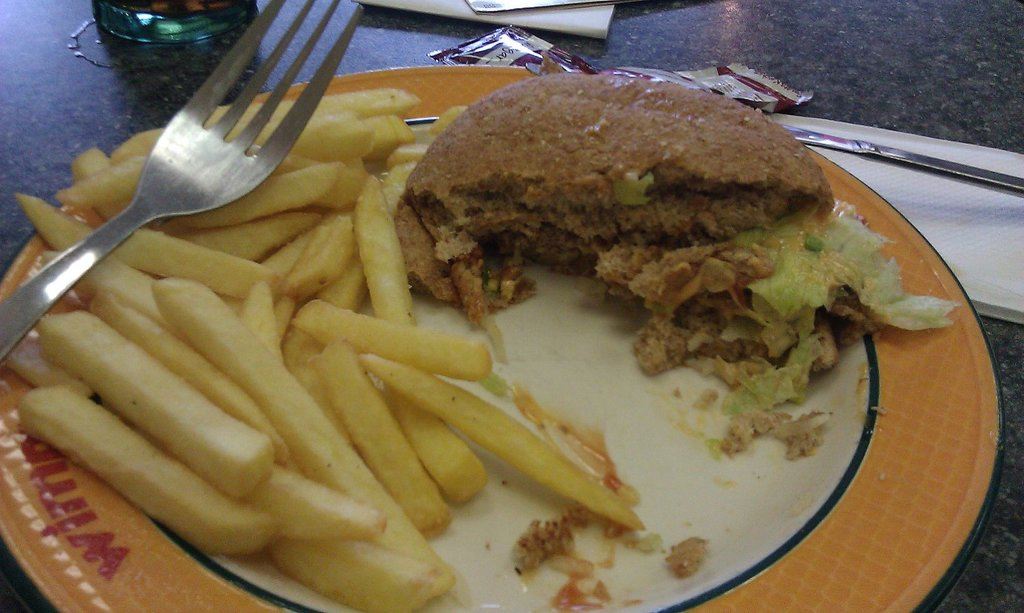French fries: (10, 76, 625, 612)
